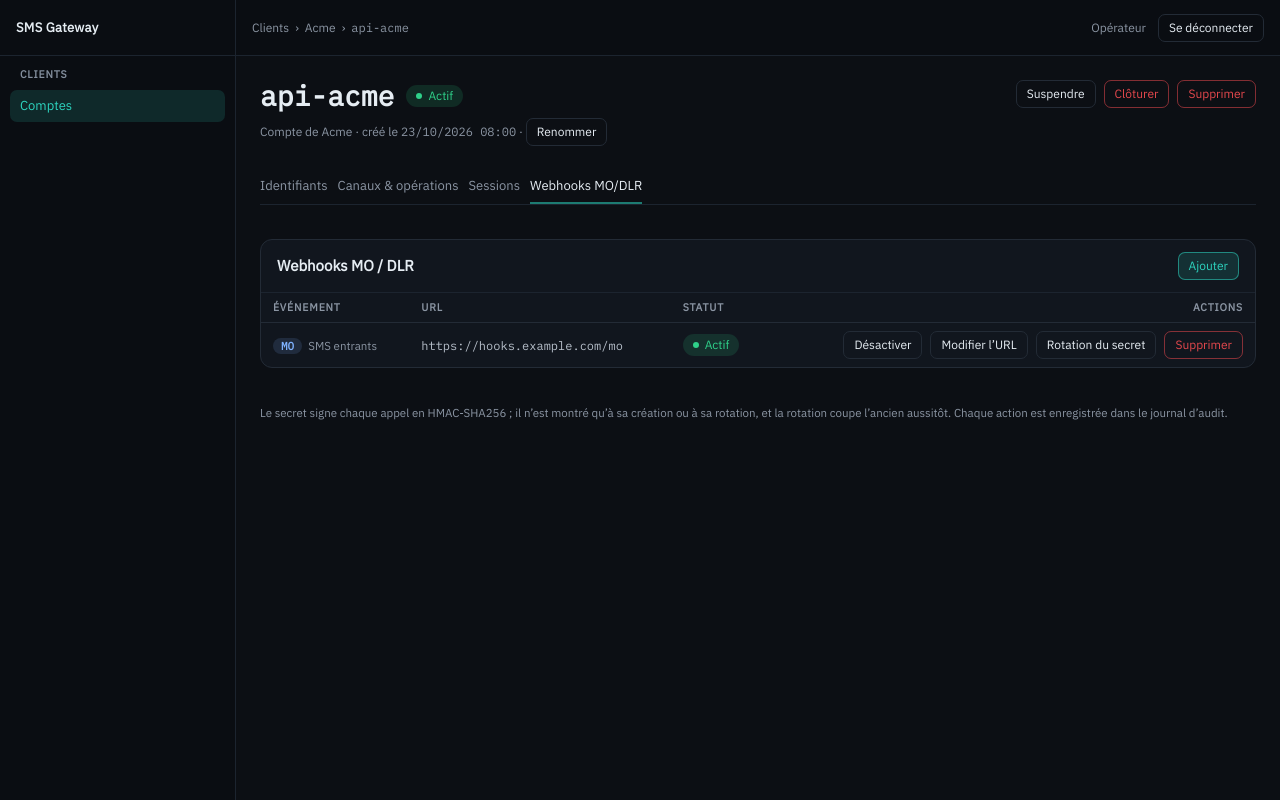
Test: a rotation refused is said in French
The image size is (1280, 800).
Click the button "Rotation du secret": (1096, 345) [1036,331,1156,359]
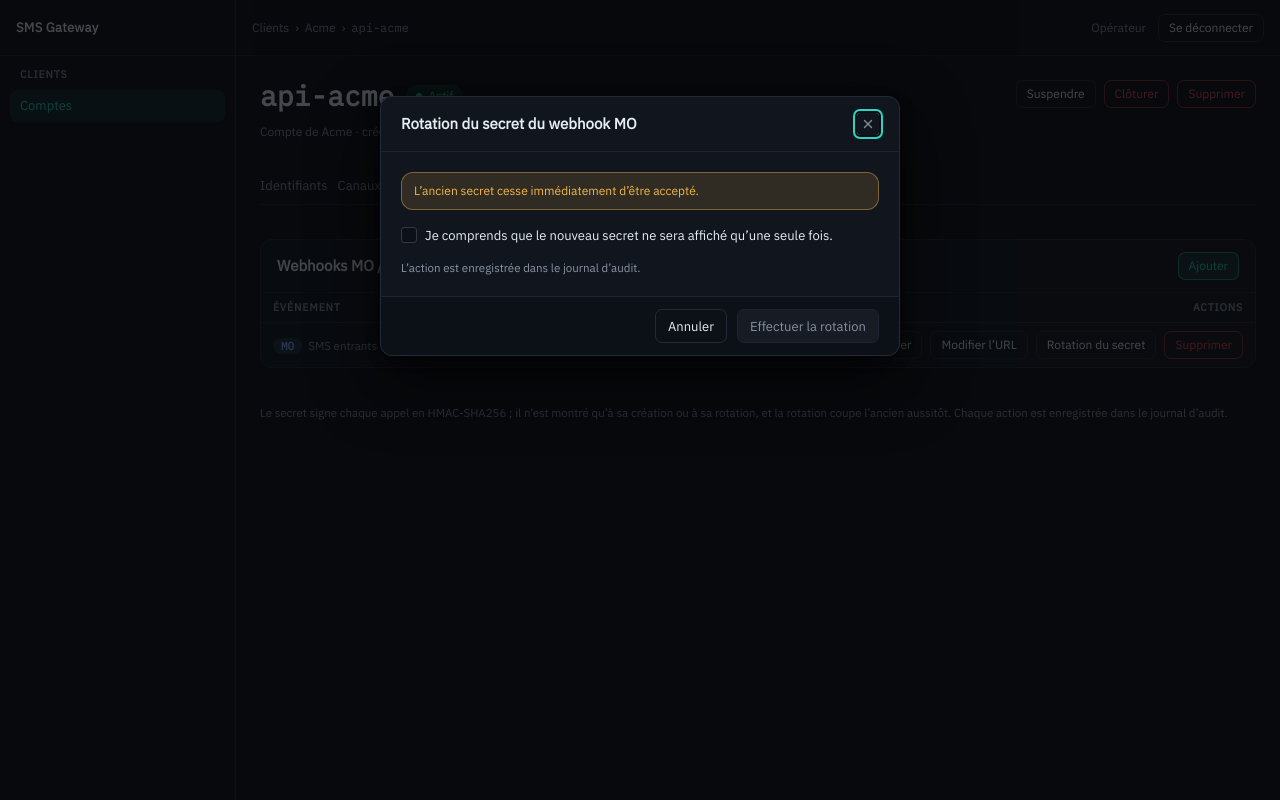
Click the checkbox named "Je comprends que le nouveau secret ne sera affiché qu’une seule fois.": (409, 235) [401,227,417,243]
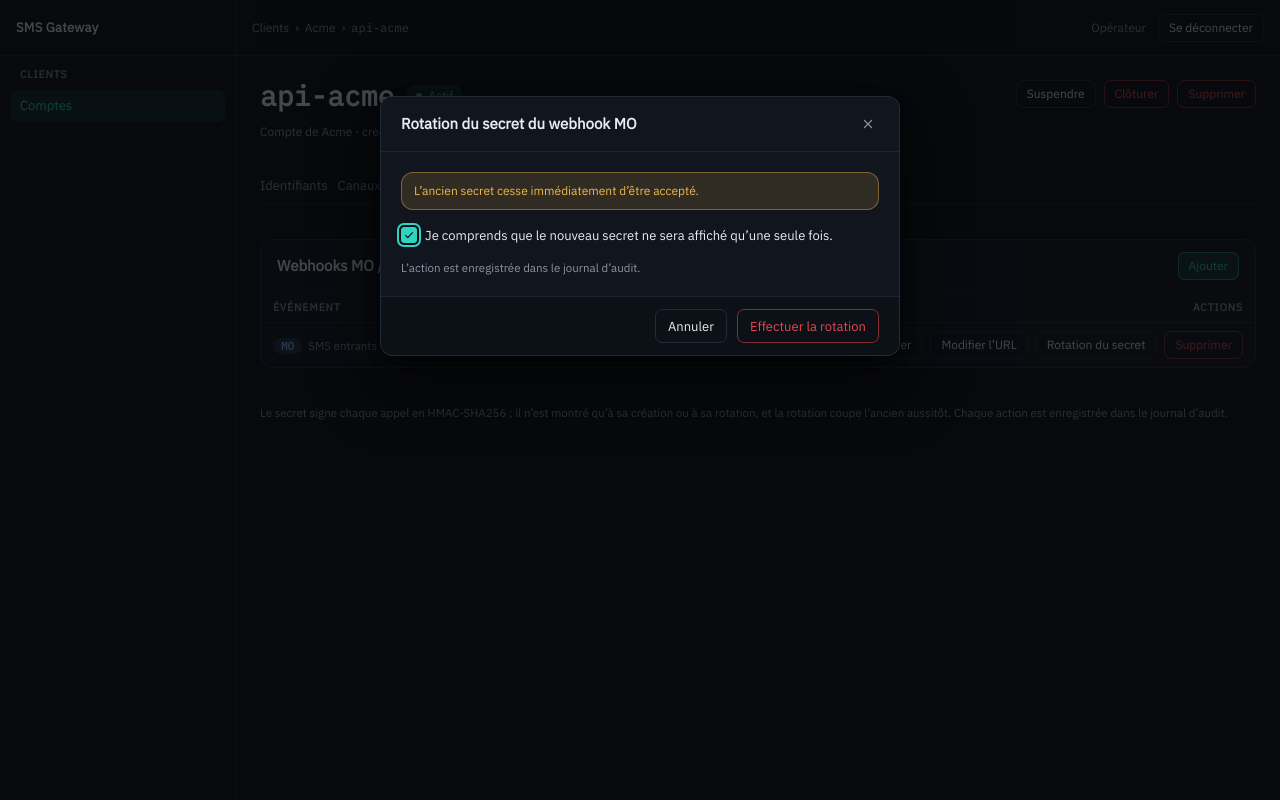
Click the button "Effectuer la rotation": (808, 326) [737,309,879,343]
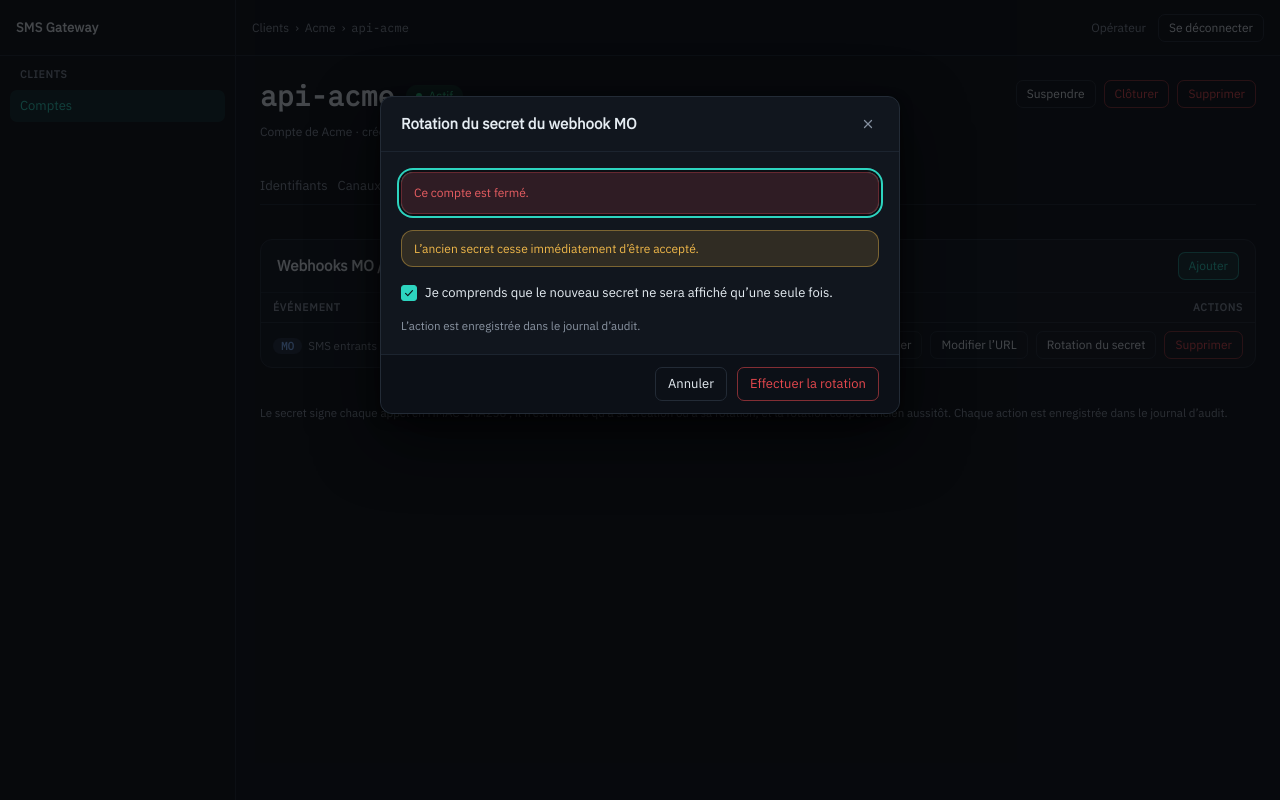
Expected: the text "Ce compte est fermé." is shown, [401,172,879,214]
Click the button "Effectuer la rotation": (808, 384) [737,367,879,401]
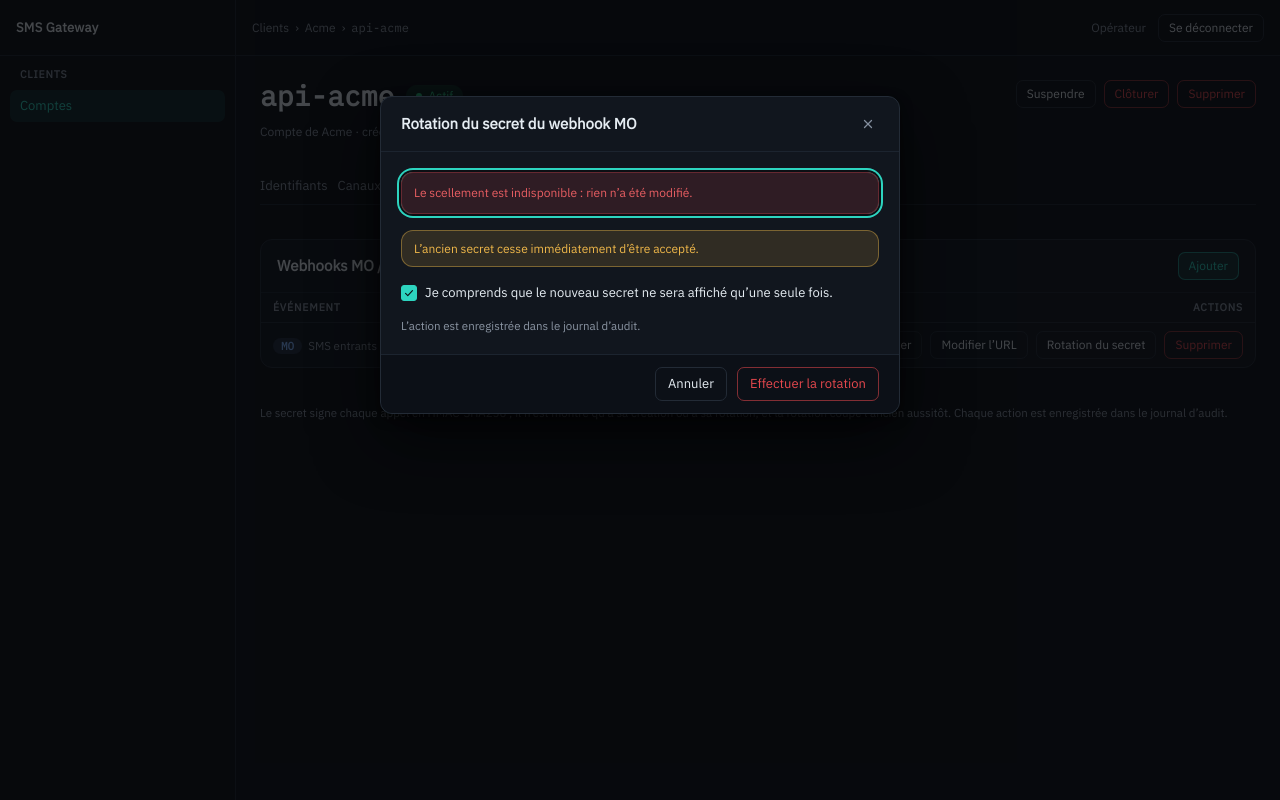
Expected: the text "Le scellement est indisponible : rien n’a été modifié." is shown, [401,172,879,214]
